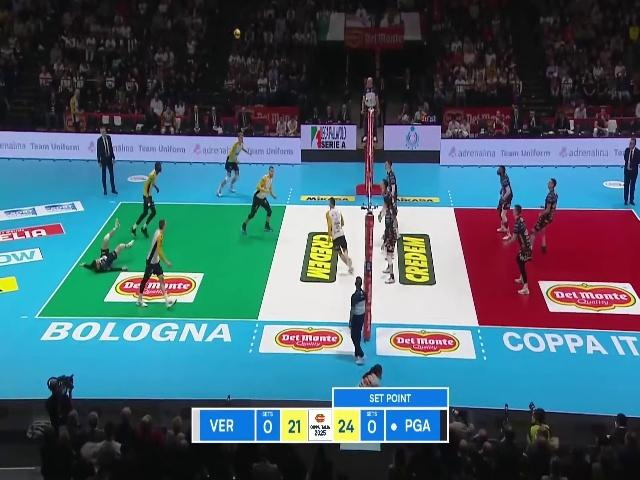volleyball court: (34, 201, 639, 332)
